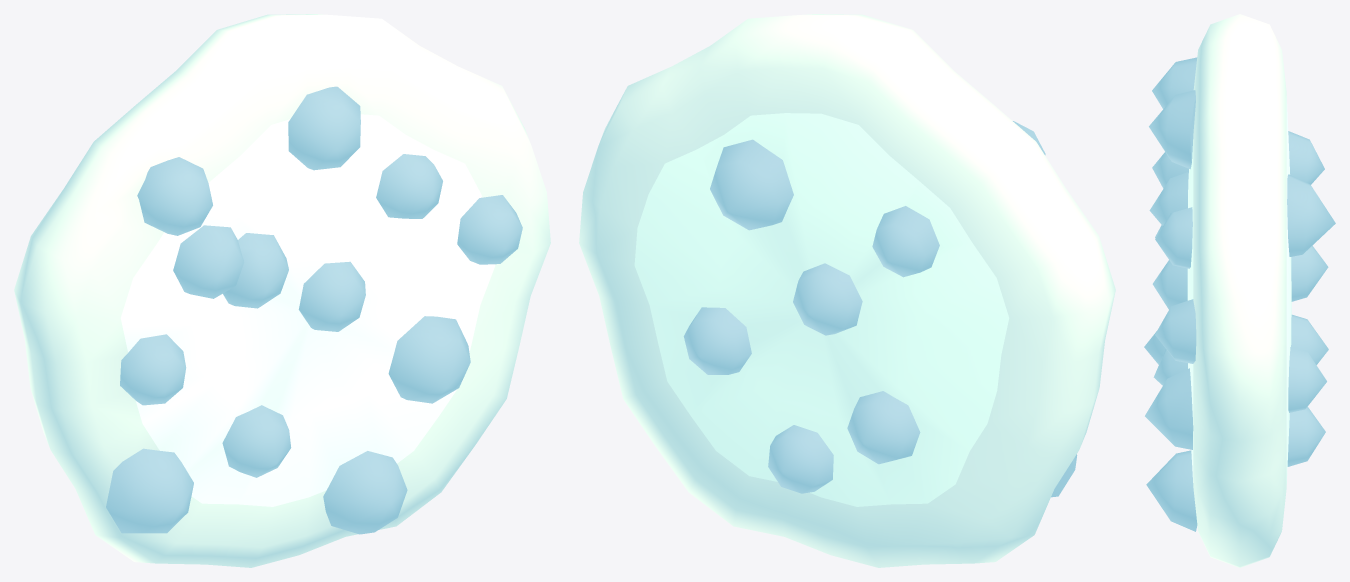
The model's file is props__CandyCookie.glb.
3 views of the same model, side by side, from view 1: azimuth 30°, elevation 25°; view 2: azimuth 150°, elevation 25°; view 3: azimuth 270°, elevation 25° (orthographic). The views are drawn at different scales.
Parts seen in each view (by area): view 1: CandyCookie; view 2: CandyCookie; view 3: CandyCookie.
Part boxes in pixels (left/top/right/bottom): CandyCookie: left=14, top=14, right=550, bottom=567; CandyCookie: left=579, top=14, right=1115, bottom=567; CandyCookie: left=1144, top=14, right=1335, bottom=567.
Bounding box in the file's own units: 8.58 × 8.42 × 2.96.
